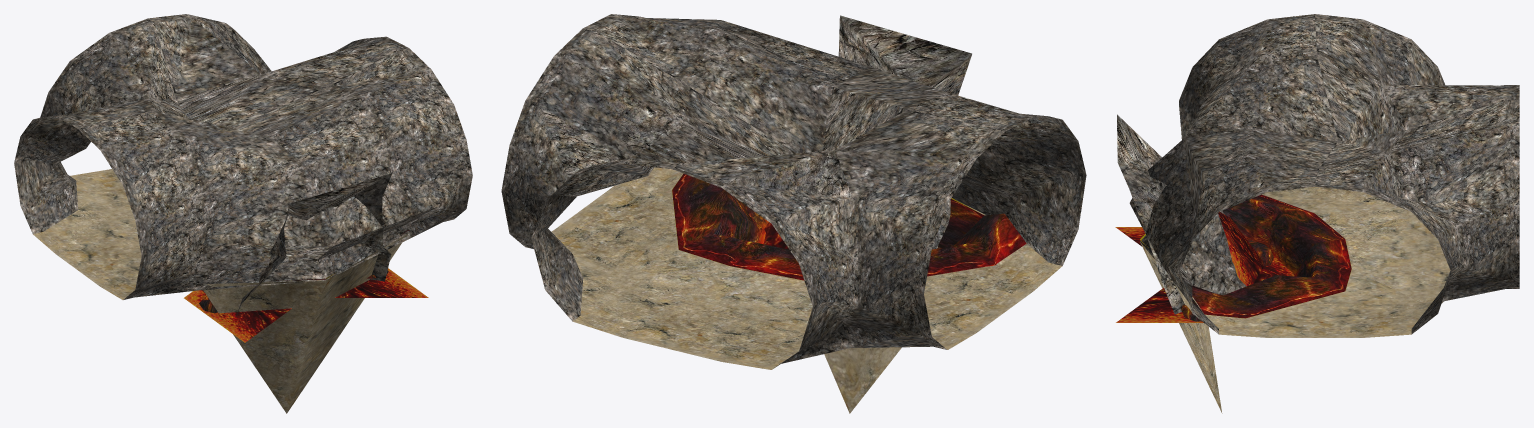
File: pir_m_are_cav_threeway150_lava.fbx
The picture shows the model from 3 angles, left to right: view 1: azimuth 30°, elevation 25°; view 2: azimuth 150°, elevation 25°; view 3: azimuth 270°, elevation 25°; orthographic projection. The views are drawn at different scales.
Parts seen in each view (by area): view 1: threeway150_wall, threeway150_floor, volcano, lava_hot_2; view 2: threeway150_wall, threeway150_floor, lavaLip, volcano; view 3: threeway150_wall, threeway150_floor, lavaLip, volcano, lava_hot_2, lava_hot_0.
Boxes of the visible parts, bbox=[...] form: threeway150_wall: bbox=[14, 14, 472, 299]; threeway150_floor: bbox=[33, 169, 409, 413]; volcano: bbox=[236, 173, 392, 316]; lava_hot_2: bbox=[184, 268, 428, 342]; threeway150_wall: bbox=[501, 14, 1086, 367]; threeway150_floor: bbox=[551, 167, 1062, 413]; lavaLip: bbox=[672, 173, 1026, 280]; volcano: bbox=[838, 15, 971, 249]; threeway150_wall: bbox=[1129, 14, 1519, 334]; threeway150_floor: bbox=[1140, 186, 1450, 413]; lavaLip: bbox=[1140, 194, 1351, 318]; volcano: bbox=[1117, 114, 1246, 314]; lava_hot_2: bbox=[1115, 227, 1294, 322]; lava_hot_0: bbox=[1218, 211, 1263, 285].
Bounding box in the file's own units: 15000 × 12707 × 14841.
Materials: 4 (4 with a texture image).
